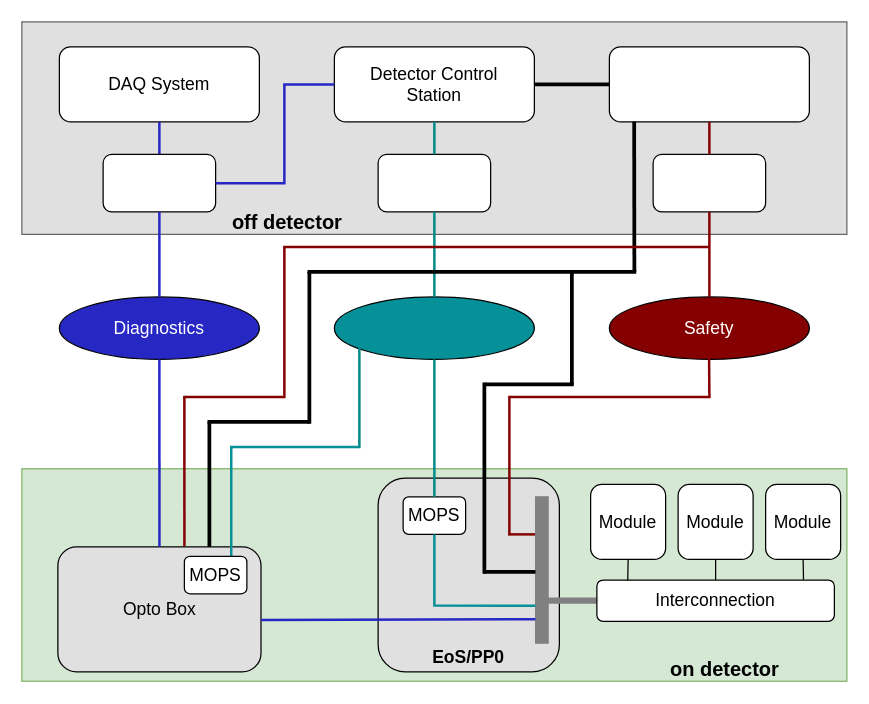
The diagram is 869 pixels wide and 704 high, and some of its shapes have lost their labels. The centre of each missing label's shape, as x and y in pixels:
"Control & Feedback" belongs at point 433,327.
"DCS Interface" belongs at point 434,182.
"FELIX" belongs at point 159,182.
"Interlock System" belongs at point 709,182.
"Power Supplies" belongs at point 708,84.
